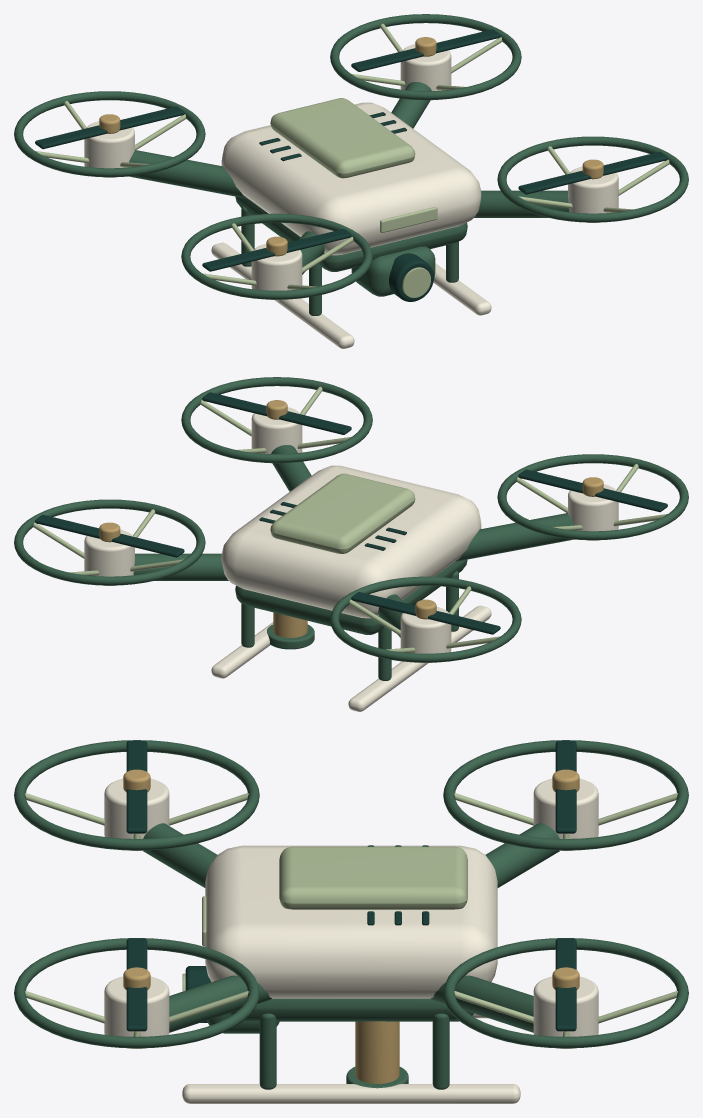
File: drone.glb
The picture shows the model from 3 angles, top to bottom: view 1: azimuth 30°, elevation 25°; view 2: azimuth 150°, elevation 25°; view 3: azimuth 270°, elevation 25°; orthographic projection. The views are drawn at different scales.
Parts seen in each view (by area): view 1: Instrument porcelain, Instrument forest, Instrument sage, Recessed optics, Inlet satin brass, Shaped propeller.001, Shaped propeller, Shaped propeller.002, Shaped propeller.003, PowerLens; view 2: Instrument porcelain, Instrument forest, Instrument sage, Inlet satin brass, Shaped propeller.003, Shaped propeller, Shaped propeller.001, Shaped propeller.002; view 3: Instrument porcelain, Instrument forest, Instrument sage, Inlet satin brass, Shaped propeller, Shaped propeller.001, Shaped propeller.002, Shaped propeller.003, Recessed optics.
Part boxes in pixels (x1,y1,x2,y2): Instrument porcelain: (84, 44, 618, 348); Instrument forest: (14, 14, 688, 315); Instrument sage: (35, 23, 669, 297); Recessed optics: (259, 112, 433, 301); Inlet satin brass: (99, 37, 603, 256); Shaped propeller.001: (518, 151, 667, 194); Shaped propeller: (202, 229, 351, 271); Shaped propeller.002: (35, 106, 184, 149); Shaped propeller.003: (351, 29, 500, 71); PowerLens: (380, 207, 437, 232); Instrument porcelain: (84, 407, 618, 711); Instrument forest: (14, 377, 688, 680); Instrument sage: (33, 386, 667, 652); Inlet satin brass: (99, 400, 603, 637); Shaped propeller.003: (35, 514, 184, 557); Shaped propeller: (518, 469, 667, 512); Shaped propeller.001: (202, 392, 351, 434); Shaped propeller.002: (351, 592, 500, 634); Instrument porcelain: (104, 778, 598, 1103); Instrument forest: (14, 740, 688, 1089); Instrument sage: (25, 793, 677, 1036); Inlet satin brass: (123, 769, 579, 1083); Shaped propeller: (126, 740, 147, 833); Shaped propeller.001: (126, 938, 147, 1031); Shaped propeller.002: (555, 740, 576, 833); Shaped propeller.003: (555, 938, 576, 1031); Recessed optics: (185, 845, 429, 1022).
Bounding box in the file's own units: 5.49 × 1.63 × 5.19.
